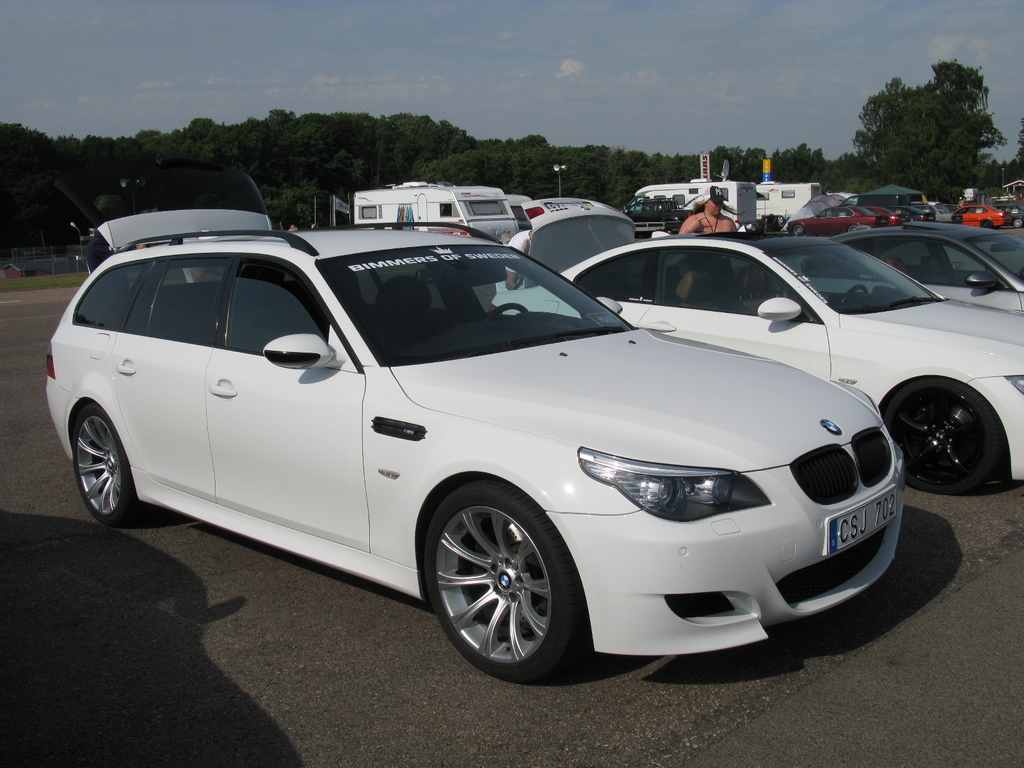Car: (46, 170, 910, 684), (484, 231, 1023, 496), (829, 224, 1023, 321), (789, 200, 877, 236), (949, 190, 1016, 218)
